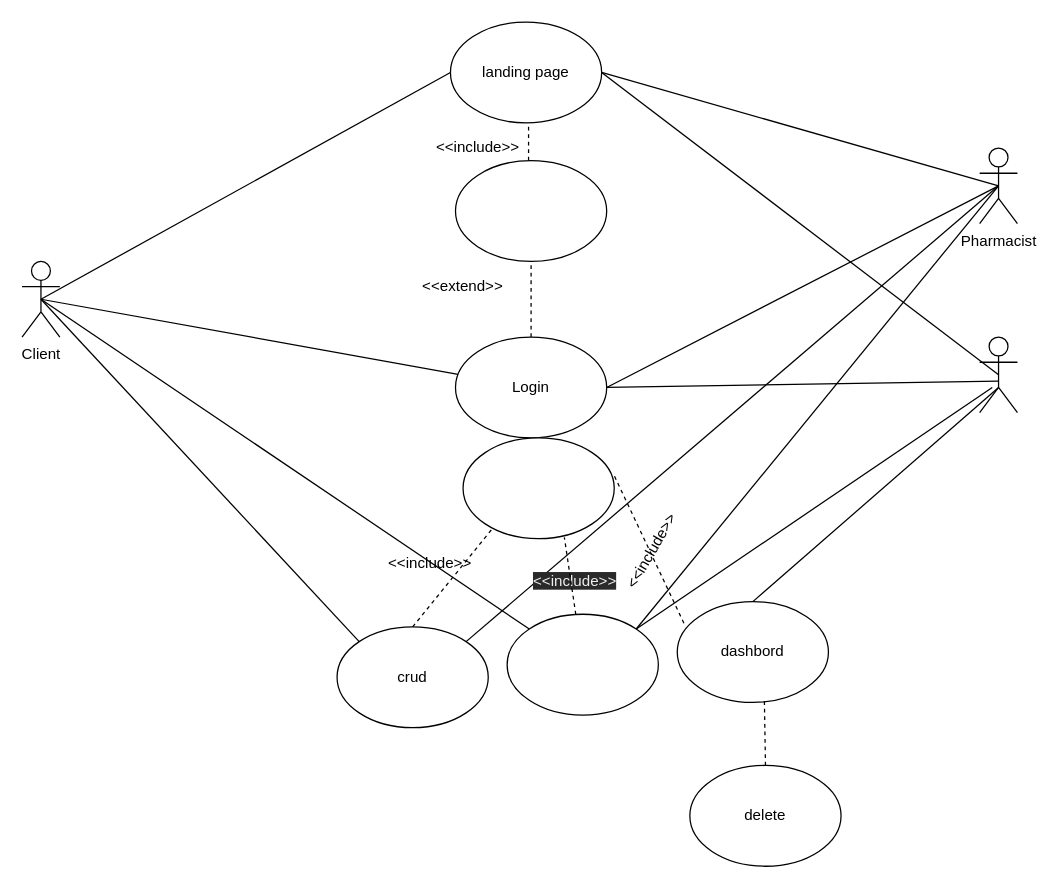
Some shapes in this 1058 by 888 pixel diagram are drawn without their labels. The shapes that lost their labels are listed below. From the top down, each one's centre as x and y in pixels, then its label:
[530,210]: Sign Up
[997,374]: Admin
[538,488]: home-page
[582,664]: logout
